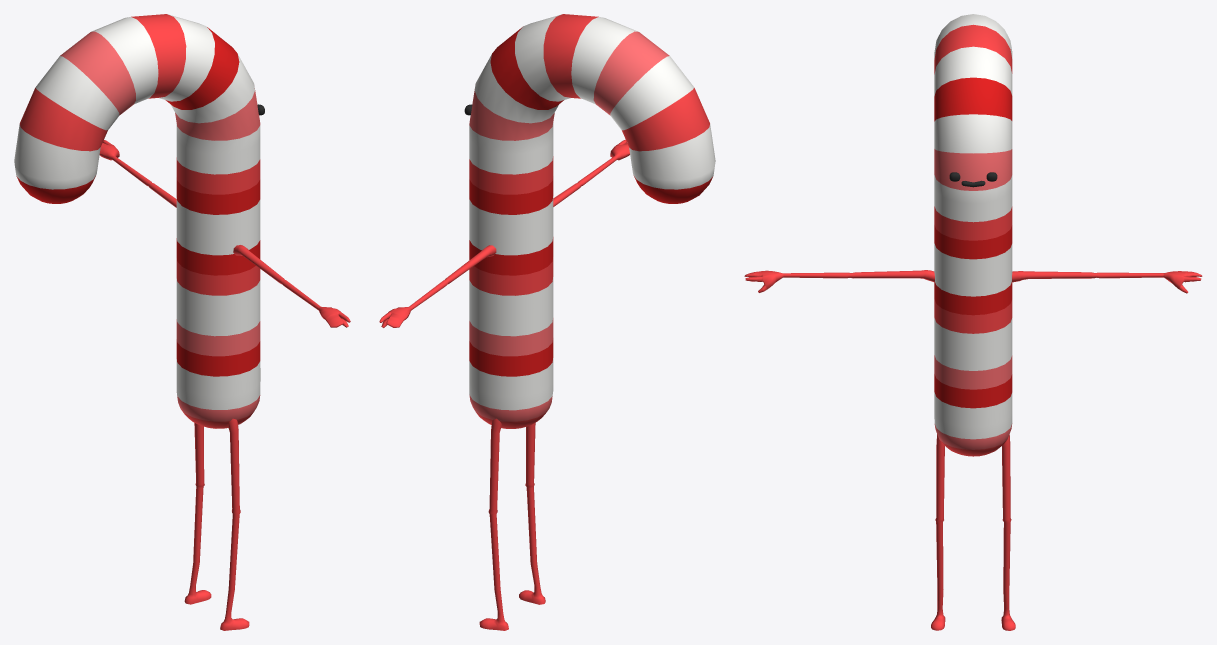
Rendered from scene_KajlUnhdvd.glb.
The picture shows the model from 3 angles, left to right: view 1: azimuth 30°, elevation 25°; view 2: azimuth 150°, elevation 25°; view 3: azimuth 270°, elevation 25°; orthographic projection. The views are drawn at different scales.
Visible parts, largest first — view 1: mesh_char_126_1; view 2: mesh_char_126_1; view 3: mesh_char_126_1.
Part boxes in pixels (box(x1,y1,x2,y2)): mesh_char_126_1: box(14, 14, 350, 630); mesh_char_126_1: box(379, 14, 715, 630); mesh_char_126_1: box(744, 14, 1202, 630).
Bounding box in the file's own units: 2.03 × 5.04 × 3.7.
Materials: 1 (1 with a texture image).
